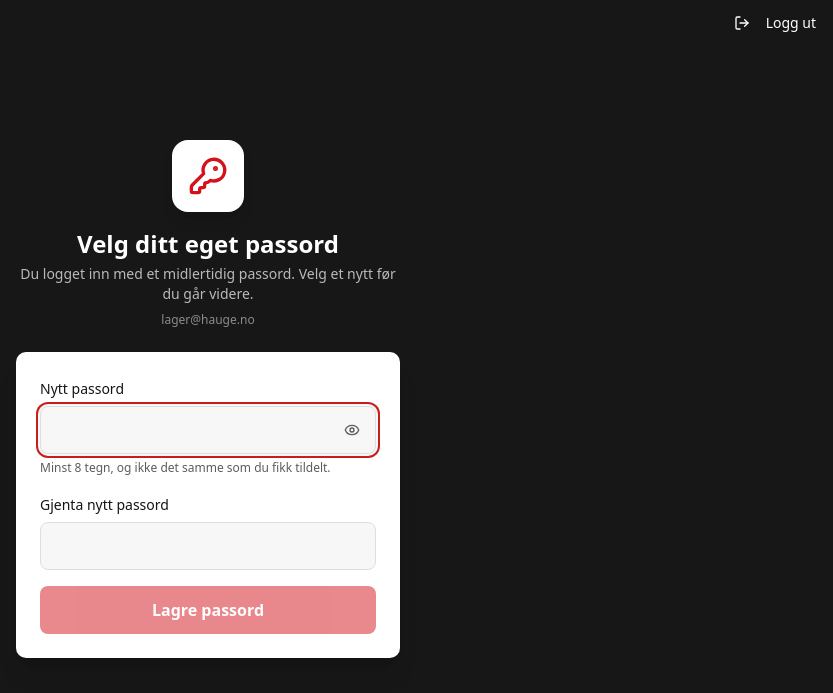
første innlogging › det same som det mellombelse: Supabase seier nei, og det står på norsk
Type "ABCDE-FGHJK-LMNPQ" into the password field labelled "Nytt passord". click: (208,430)
box: 40,406 -> 376,454
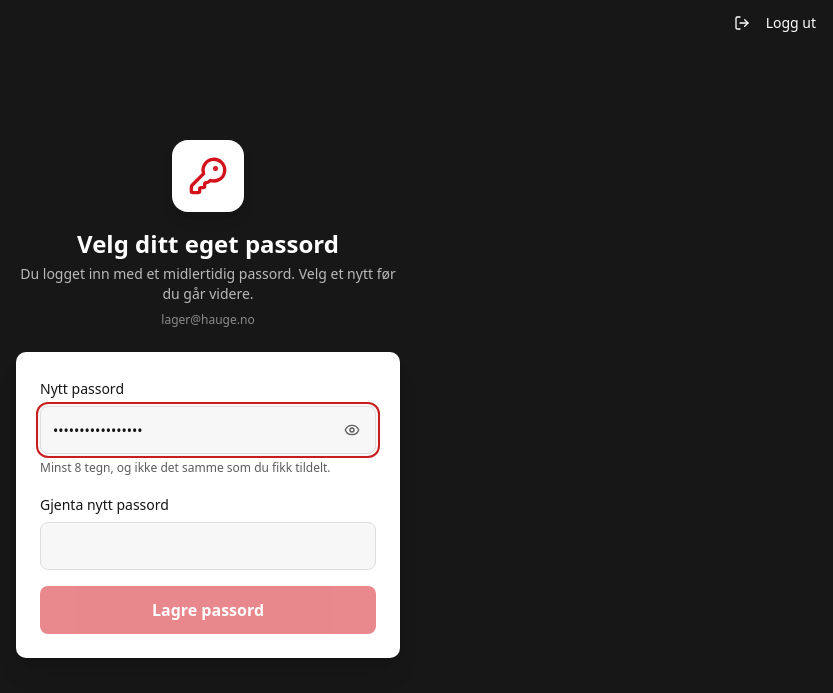
Type "ABCDE-FGHJK-LMNPQ" into the password field labelled "Gjenta nytt passord". click: (208,546)
box: 40,522 -> 376,570
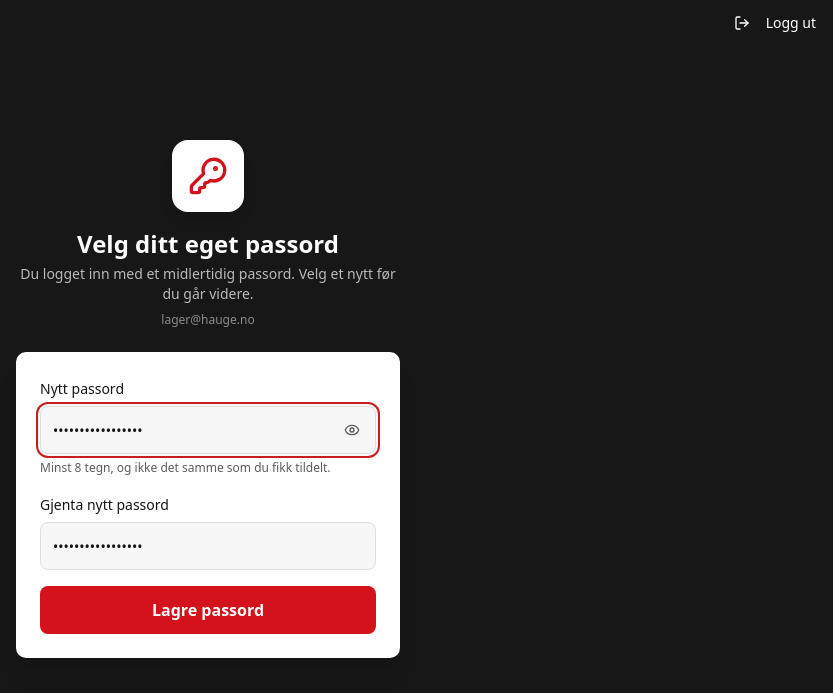
Click the button "Lagre passord". click: (208,610)
box: 40,586 -> 376,634
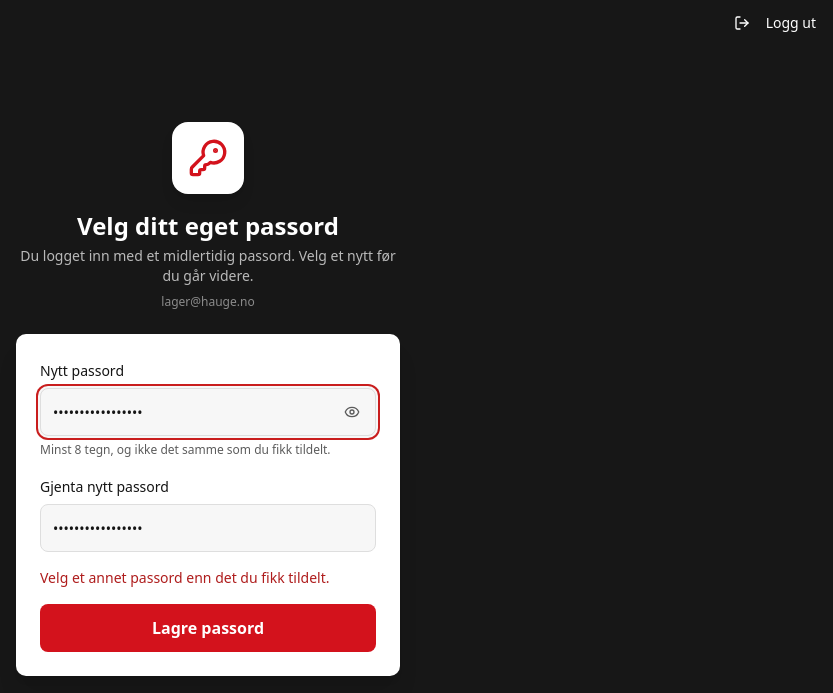
Check: the message shows "annet passord enn det du fikk tildelt", box 40,568 -> 330,587
